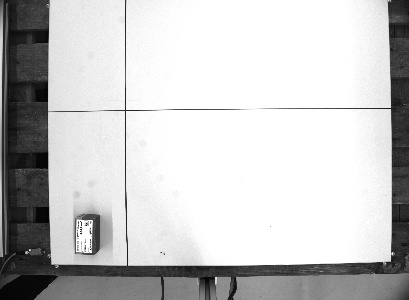b3: (72, 212, 101, 255)
